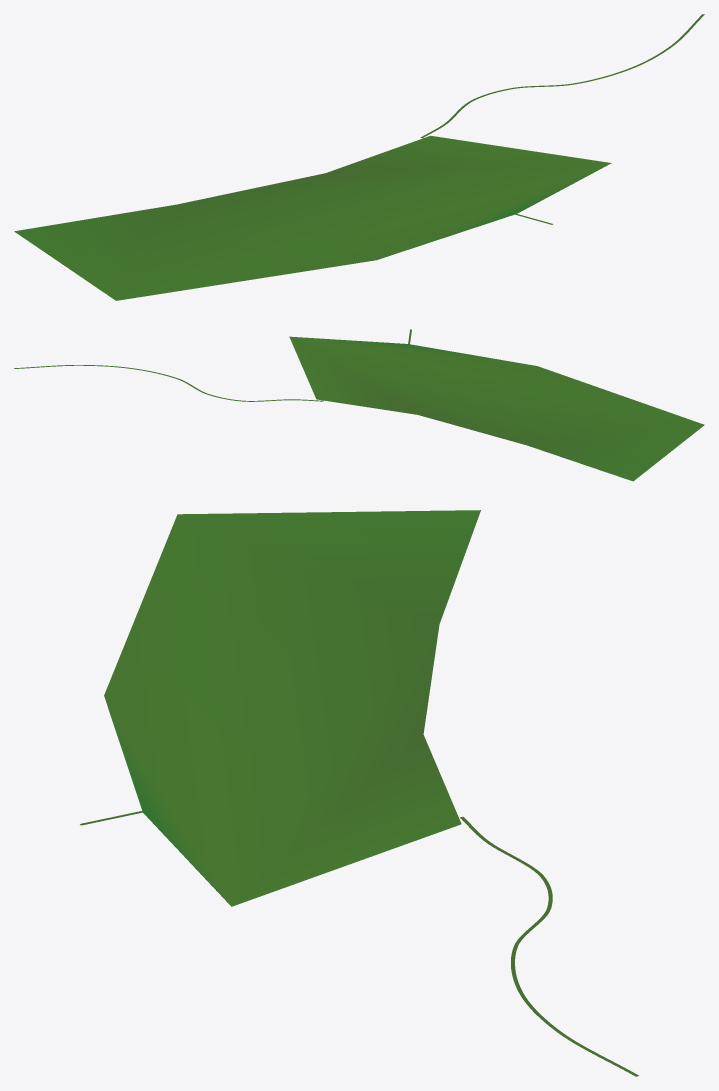
The picture shows the model from 3 angles, top to bottom: view 1: azimuth 30°, elevation 25°; view 2: azimuth 150°, elevation 25°; view 3: azimuth 270°, elevation 25°; orthographic projection. The views are drawn at different scales.
Parts seen in each view (by area): view 1: skin, sweeping_strand; view 2: skin, sweeping_strand; view 3: skin, sweeping_strand.
Part boxes in pixels (left/top/right/bottom): skin: left=14, top=135, right=611, bottom=300; sweeping_strand: left=420, top=14, right=704, bottom=138; skin: left=289, top=336, right=704, bottom=481; sweeping_strand: left=14, top=365, right=323, bottom=401; skin: left=104, top=510, right=480, bottom=906; sweeping_strand: left=460, top=816, right=638, bottom=1076.
Size of the model in its own units: 96.71 by 0.00826 by 40.38.
